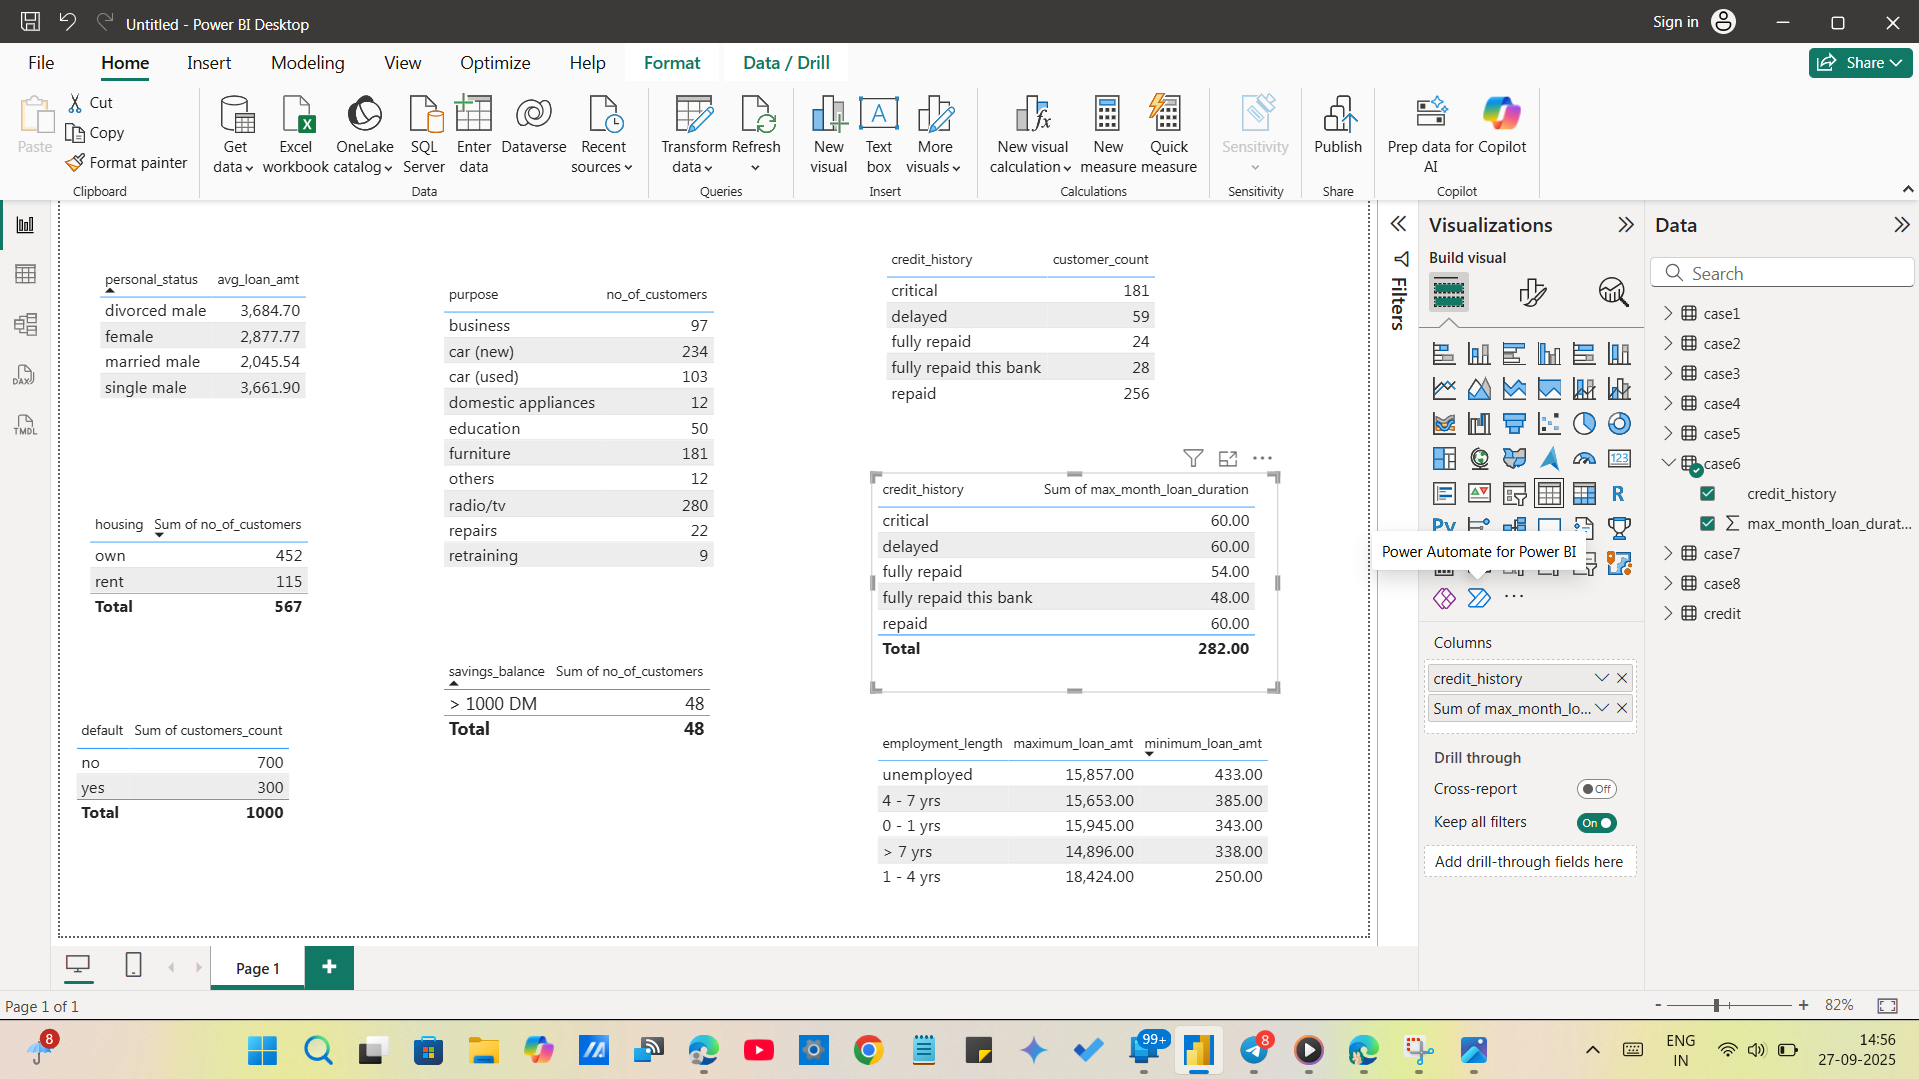

The page's visual inventory and layout, read from the dashboard file:
{"tool":"powerbi","page":{"name":"Page 1","canvas":[1280,720],"ordinal":0},"visuals":[{"type":"tableEx","fields":{"Values":["case1.purpose","case1.no_of_customers"]},"box":[369.1,75.5,293.7,343.1],"z":0},{"type":"tableEx","fields":{"Values":["case2.personal_status","case2.avg_loan_amt"]},"box":[32.9,61.7,226.4,171.5],"z":1000},{"type":"tableEx","fields":{"Values":["case3.default","Sum(case3.customers_count)"]},"box":[9.6,502.2,249.7,150.9],"z":2000},{"type":"tableEx","fields":{"Values":["case4.credit_history","case4.customer_count"]},"box":[802.7,41.2,351.3,182.5],"z":3000},{"type":"tableEx","fields":{"Values":["case5.employment_length","case5.maximum_loan_amt","case5.minimum_loan_amt"]},"box":[793.1,514.6,466.6,189.4],"z":4000},{"type":"tableEx","fields":{"Values":["case6.credit_history","Sum(case6.max_month_loan_duration)"]},"box":[793.1,266.2,399.3,215.4],"z":5000},{"type":"tableEx","fields":{"Values":["case7.savings_balance","Sum(case7.no_of_customers)"]},"box":[369.1,444.6,306,133.1],"z":6000},{"type":"tableEx","fields":{"Values":["case8.housing","Sum(case8.no_of_customers)"]},"box":[23.3,300.5,251.1,118],"z":7000}]}

Visuals, with their boxes on the page's 1280x720 design canvas (x1, y1, x2, y2). These are canvas units, not pixel positions in the 1919x1079 screenshot, which may show the page scaled, cropped or inside an application window:
tableEx - case1.purpose x case1.no_of_customers: rect(369, 76, 663, 419)
tableEx - case2.personal_status x case2.avg_loan_amt: rect(33, 62, 259, 233)
tableEx - case3.default x Sum(case3.customers_count): rect(10, 502, 259, 653)
tableEx - case4.credit_history x case4.customer_count: rect(803, 41, 1154, 224)
tableEx - case5.employment_length x case5.maximum_loan_amt: rect(793, 515, 1260, 704)
tableEx - case6.credit_history x Sum(case6.max_month_loan_duration): rect(793, 266, 1192, 482)
tableEx - case7.savings_balance x Sum(case7.no_of_customers): rect(369, 445, 675, 578)
tableEx - case8.housing x Sum(case8.no_of_customers): rect(23, 300, 274, 418)
